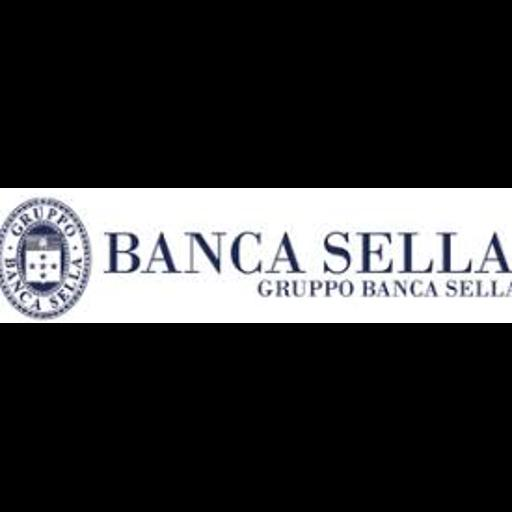Banca Sella: (0, 188, 512, 323)
